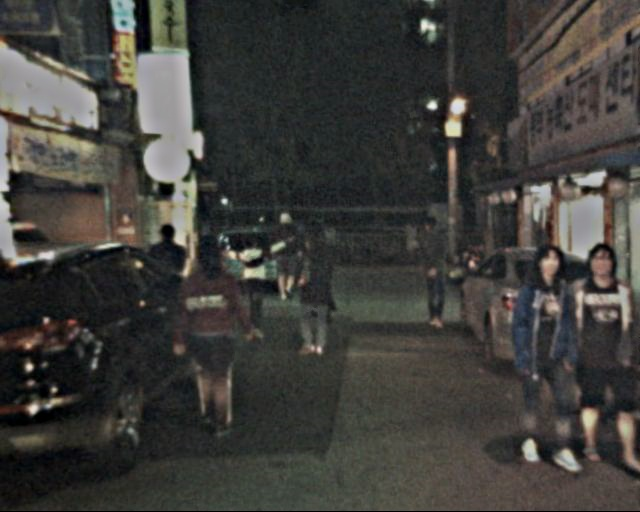person: (546, 245, 640, 465), (506, 237, 579, 471), (170, 237, 251, 443), (180, 228, 235, 374), (283, 233, 334, 367), (142, 224, 194, 349), (225, 231, 278, 341), (411, 218, 457, 328), (262, 206, 303, 308)
